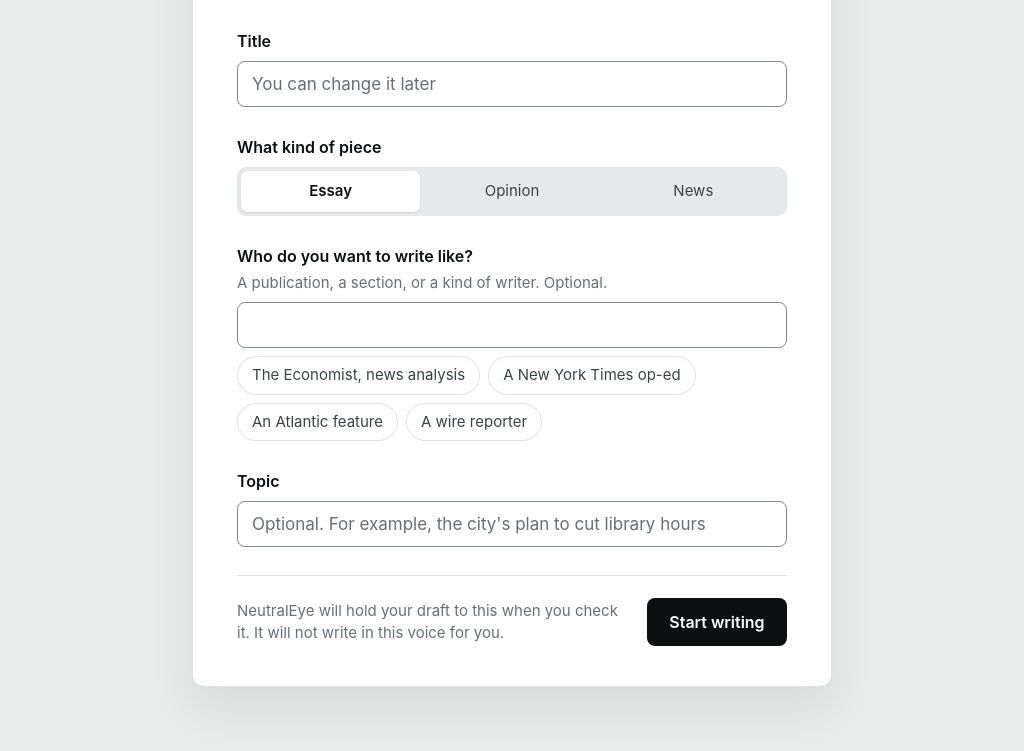
it: first visit › an empty title becomes Untitled
(page scrolled)
Click the button "Start writing" at (717, 622), box x1=647 y1=598 x2=787 y2=646
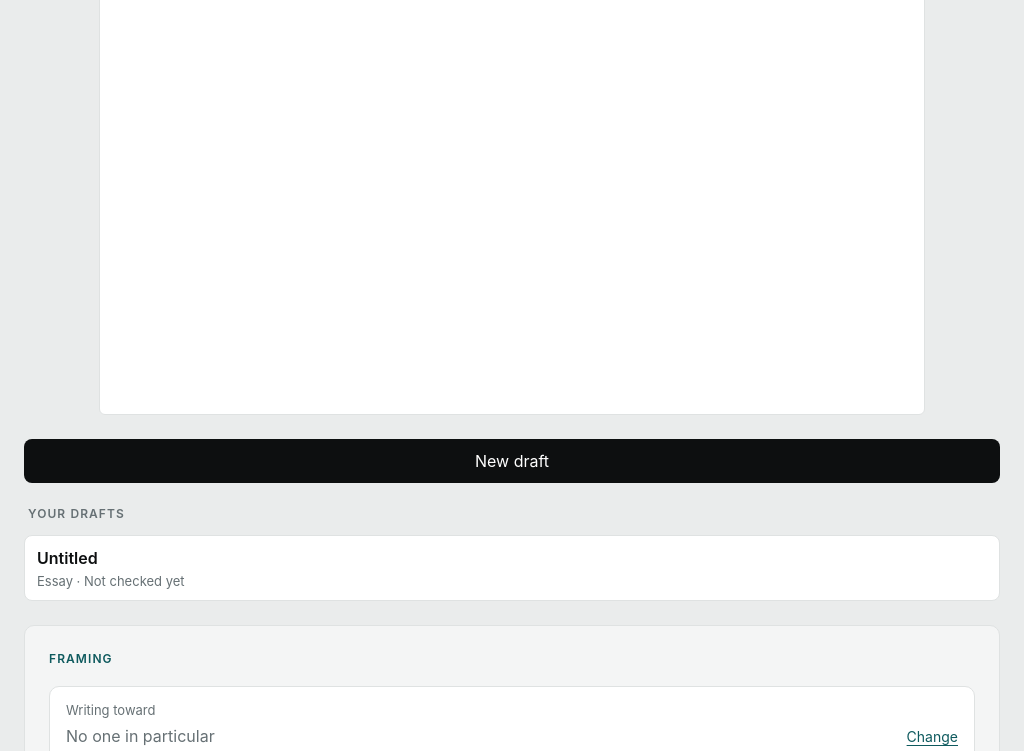
Result: the text "Untitled" is shown at x1=37 y1=546 x2=98 y2=570
